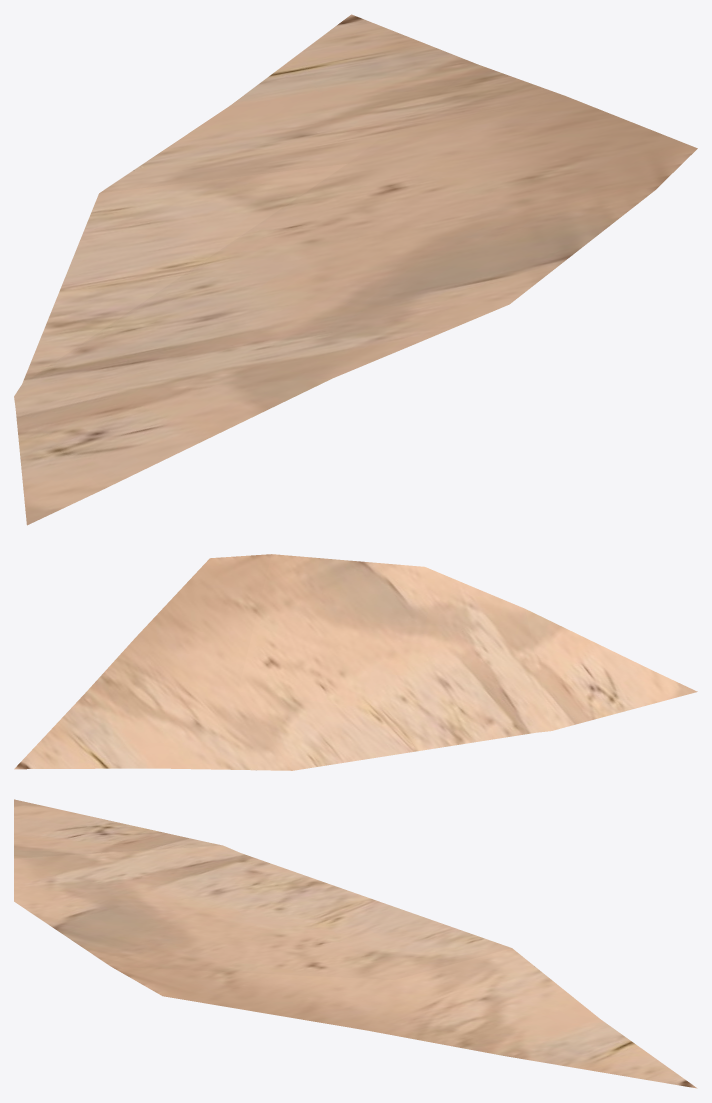
The picture shows the model from 3 angles, top to bottom: view 1: azimuth 30°, elevation 25°; view 2: azimuth 150°, elevation 25°; view 3: azimuth 270°, elevation 25°; orthographic projection. The views are drawn at different scales.
Size of the model in its own units: 0.8928 by 0.1344 by 0.8923.
Materials: 1 (1 with a texture image).
